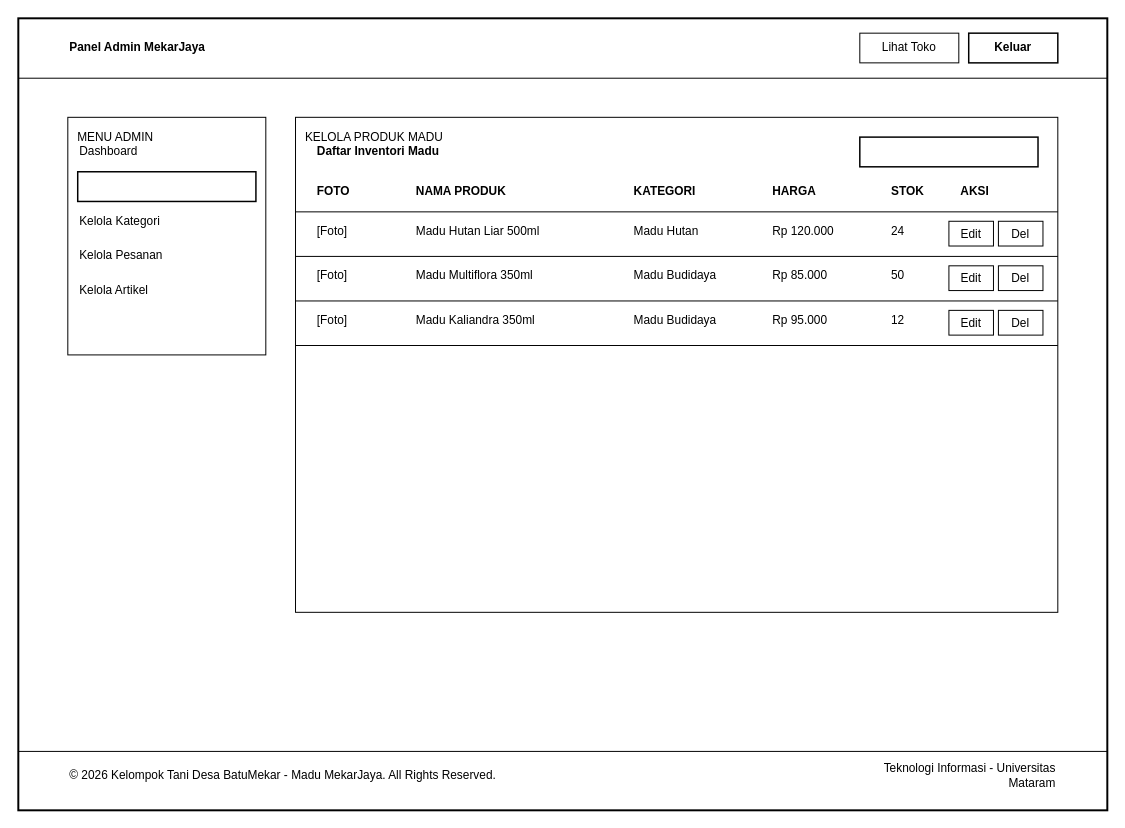
Some shapes in this 1125 by 828 pixel diagram are drawn without their labels. Each missing label, with the centre of its shape:
+ Tambah Produk Baru: the point at 948,151
Kelola Produk: the point at 166,186
